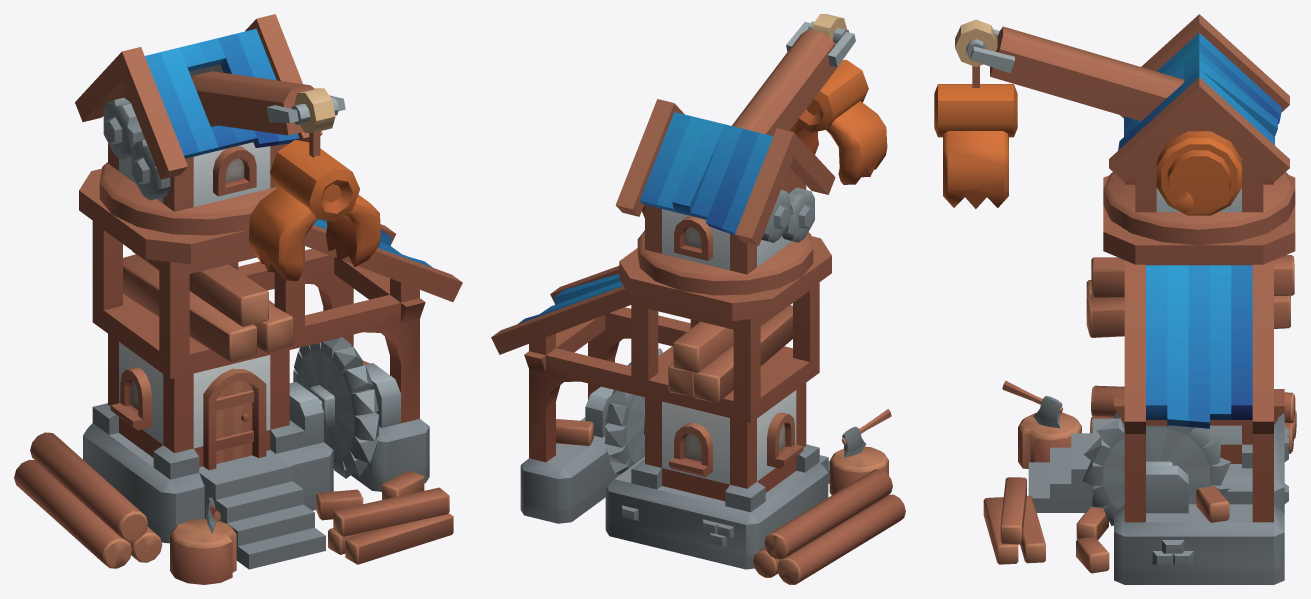
The model's file is building_lumbermill_blue.gltf.
3 views of the same model, side by side, from view 1: azimuth 30°, elevation 25°; view 2: azimuth 150°, elevation 25°; view 3: azimuth 270°, elevation 25° (orthographic). The views are drawn at different scales.
Parts seen in each view (by area): view 1: building_lumbermill_blue, building_lumbermill_top_blue, building_lumbermill_saw_blue; view 2: building_lumbermill_blue, building_lumbermill_top_blue, building_lumbermill_saw_blue; view 3: building_lumbermill_blue, building_lumbermill_top_blue, building_lumbermill_saw_blue.
Part boxes in pixels (bbox=[...]): building_lumbermill_blue: bbox=[14, 168, 462, 584]; building_lumbermill_top_blue: bbox=[75, 14, 380, 280]; building_lumbermill_saw_blue: bbox=[293, 337, 378, 478]; building_lumbermill_blue: bbox=[491, 236, 905, 584]; building_lumbermill_top_blue: bbox=[615, 14, 887, 295]; building_lumbermill_saw_blue: bbox=[605, 348, 662, 474]; building_lumbermill_blue: bbox=[983, 175, 1296, 584]; building_lumbermill_top_blue: bbox=[934, 14, 1295, 245]; building_lumbermill_saw_blue: bbox=[1082, 417, 1231, 525].
Bounding box in the file's own units: 1.37 × 1.71 × 1.19.
Materials: 1 (1 with a texture image).
